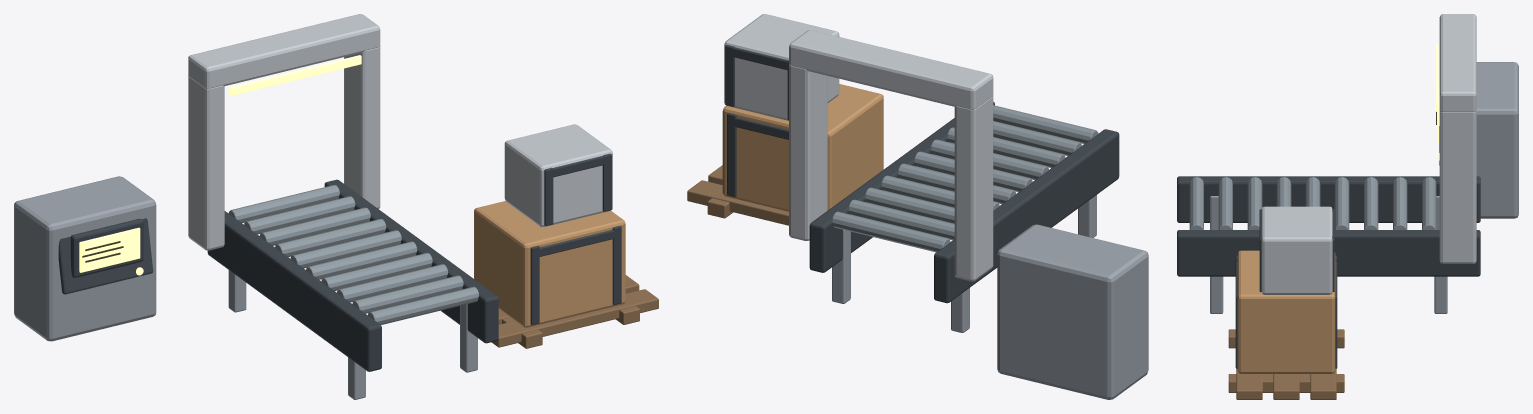
File: department_cargo_dressing.glb
3 renders of one model, left to right at view 1: azimuth 30°, elevation 25°; view 2: azimuth 150°, elevation 25°; view 3: azimuth 270°, elevation 25°, orthographic. The views are drawn at different scales.
Visible parts, largest first — view 1: DEPT_Cargo__Cargo_Console_Body, DEPT_Cargo__Crate_Large_Body, DEPT_Cargo__Conveyor_Frame_Left, DEPT_Cargo__Crate_Small_Body, DEPT_Cargo__Scanner_Top, DEPT_Cargo__Scanner_Post_-0.64, DEPT_Cargo__Scanner_Post_0.64, DEPT_Cargo__Conveyor_Frame_Right, DEPT_Cargo__Pallet_Slat_1, DEPT_Cargo__Cargo_Console_Face, DEPT_Cargo__Cargo_Console_Screen_Glow, DEPT_Cargo__Conveyor_Roller_1 (+18 smaller); view 2: DEPT_Cargo__Cargo_Console_Body, DEPT_Cargo__Crate_Large_Body, DEPT_Cargo__Conveyor_Frame_Left, DEPT_Cargo__Scanner_Top, DEPT_Cargo__Scanner_Post_-0.64, DEPT_Cargo__Scanner_Post_0.64, DEPT_Cargo__Crate_Small_Body, DEPT_Cargo__Conveyor_Frame_Right, DEPT_Cargo__Conveyor_Roller_10, DEPT_Cargo__Conveyor_Roller_9, DEPT_Cargo__Conveyor_Roller_1, DEPT_Cargo__Pallet_Slat_3 (+14 smaller); view 3: DEPT_Cargo__Crate_Large_Body, DEPT_Cargo__Conveyor_Frame_Right, DEPT_Cargo__Cargo_Console_Body, DEPT_Cargo__Crate_Small_Body, DEPT_Cargo__Conveyor_Frame_Left, DEPT_Cargo__Scanner_Post_0.64, DEPT_Cargo__Scanner_Top, DEPT_Cargo__Conveyor_Roller_6, DEPT_Cargo__Pallet_Runner_Right, DEPT_Cargo__Conveyor_Roller_2, DEPT_Cargo__Conveyor_Roller_7, DEPT_Cargo__Conveyor_Roller_8 (+13 smaller).
Part boxes in pixels (bbox=[...]): DEPT_Cargo__Cargo_Console_Body: bbox=[14, 176, 156, 341]; DEPT_Cargo__Crate_Large_Body: bbox=[474, 201, 625, 327]; DEPT_Cargo__Conveyor_Frame_Left: bbox=[207, 211, 381, 371]; DEPT_Cargo__Crate_Small_Body: bbox=[504, 124, 612, 226]; DEPT_Cargo__Scanner_Top: bbox=[188, 14, 380, 88]; DEPT_Cargo__Scanner_Post_-0.64: bbox=[188, 76, 224, 250]; DEPT_Cargo__Scanner_Post_0.64: bbox=[344, 47, 380, 208]; DEPT_Cargo__Conveyor_Frame_Right: bbox=[324, 179, 498, 343]; DEPT_Cargo__Pallet_Slat_1: bbox=[491, 289, 658, 347]; DEPT_Cargo__Cargo_Console_Face: bbox=[58, 218, 153, 294]; DEPT_Cargo__Cargo_Console_Screen_Glow: bbox=[79, 227, 140, 272]; DEPT_Cargo__Conveyor_Roller_1: bbox=[368, 286, 478, 324]; DEPT_Cargo__Cargo_Console_Body: bbox=[997, 224, 1148, 399]; DEPT_Cargo__Crate_Large_Body: bbox=[722, 84, 883, 211]; DEPT_Cargo__Conveyor_Frame_Left: bbox=[934, 129, 1119, 303]; DEPT_Cargo__Scanner_Top: bbox=[789, 30, 993, 109]; DEPT_Cargo__Scanner_Post_-0.64: bbox=[954, 95, 993, 281]; DEPT_Cargo__Scanner_Post_0.64: bbox=[789, 65, 827, 240]; DEPT_Cargo__Crate_Small_Body: bbox=[724, 14, 839, 120]; DEPT_Cargo__Conveyor_Frame_Right: bbox=[809, 102, 994, 272]; DEPT_Cargo__Conveyor_Roller_10: bbox=[832, 211, 950, 252]; DEPT_Cargo__Conveyor_Roller_9: bbox=[848, 199, 954, 240]; DEPT_Cargo__Conveyor_Roller_1: bbox=[993, 105, 1098, 143]; DEPT_Cargo__Pallet_Slat_3: bbox=[687, 180, 788, 225]; DEPT_Cargo__Crate_Large_Body: bbox=[1237, 250, 1335, 373]; DEPT_Cargo__Conveyor_Frame_Right: bbox=[1177, 230, 1480, 276]; DEPT_Cargo__Cargo_Console_Body: bbox=[1476, 62, 1518, 218]; DEPT_Cargo__Crate_Small_Body: bbox=[1261, 206, 1332, 294]; DEPT_Cargo__Conveyor_Frame_Left: bbox=[1177, 176, 1480, 222]; DEPT_Cargo__Scanner_Post_0.64: bbox=[1439, 110, 1476, 263]; DEPT_Cargo__Scanner_Top: bbox=[1439, 14, 1476, 111]; DEPT_Cargo__Conveyor_Roller_6: bbox=[1334, 177, 1349, 229]; DEPT_Cargo__Pallet_Runner_Right: bbox=[1228, 374, 1344, 392]; DEPT_Cargo__Conveyor_Roller_2: bbox=[1218, 177, 1232, 229]; DEPT_Cargo__Conveyor_Roller_7: bbox=[1364, 177, 1378, 229]; DEPT_Cargo__Conveyor_Roller_8: bbox=[1393, 177, 1407, 229].
Size of the model in its own units: 4.08 by 1.95 by 2.59.
